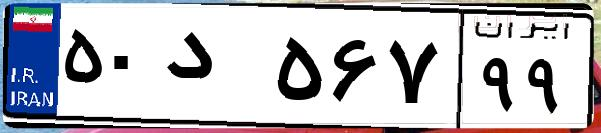0: (110, 28, 158, 98)
5: (270, 28, 330, 110), (57, 26, 110, 100)
6: (330, 28, 385, 110)
7: (385, 28, 445, 110)
9: (475, 38, 525, 113), (525, 38, 570, 115)
د: (158, 20, 270, 120)
